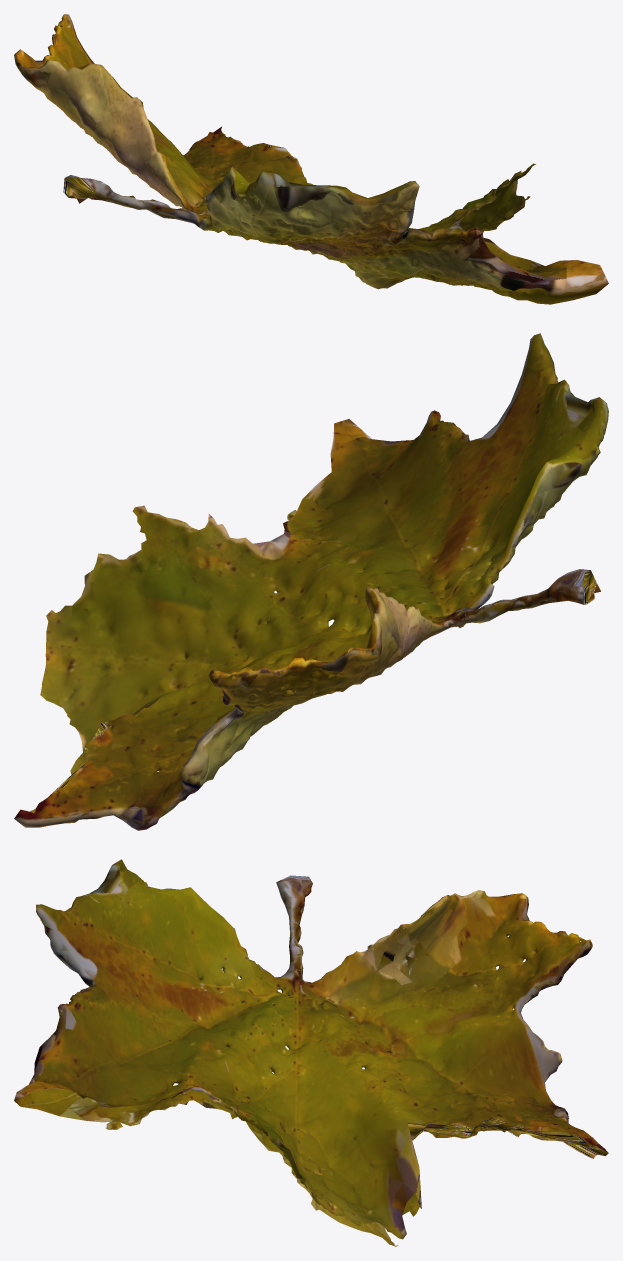
File: leadroll.glb
3 renders of one model, top to bottom at view 1: azimuth 30°, elevation 25°; view 2: azimuth 150°, elevation 25°; view 3: azimuth 270°, elevation 25°, orthographic. The views are drawn at different scales.
Visible parts, largest first — view 1: export_2; view 2: export_2; view 3: export_2.
Part boxes in pixels (left/top/right/bottom): export_2: left=14, top=14, right=608, bottom=304; export_2: left=14, top=333, right=608, bottom=830; export_2: left=14, top=859, right=608, bottom=1246.
Bounding box in the file's own units: 0.6334 × 0.3838 × 0.7944.
Materials: 1 (1 with a texture image).
